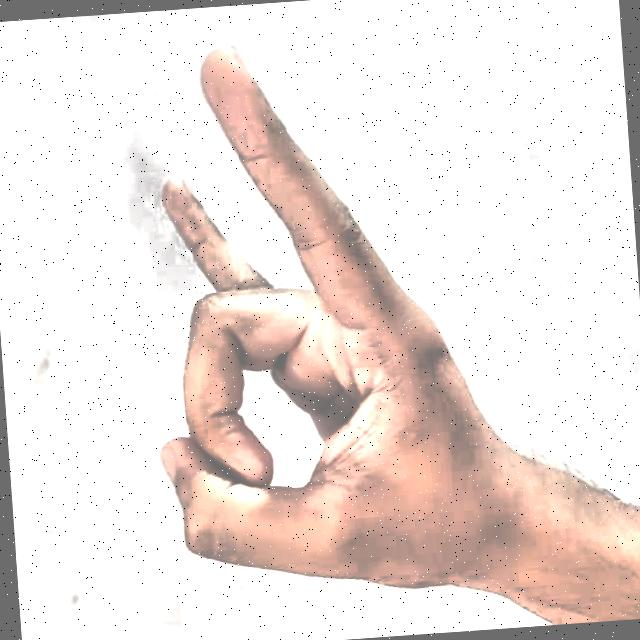Cha: (81, 2, 556, 640)
